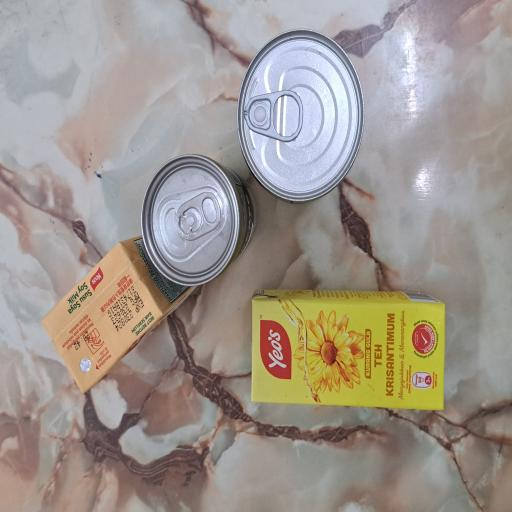can: (232, 314, 361, 488), (168, 185, 268, 340)
drink carton: (91, 54, 208, 262), (78, 331, 167, 512)
pop tab: (277, 321, 318, 405), (202, 231, 245, 296)
